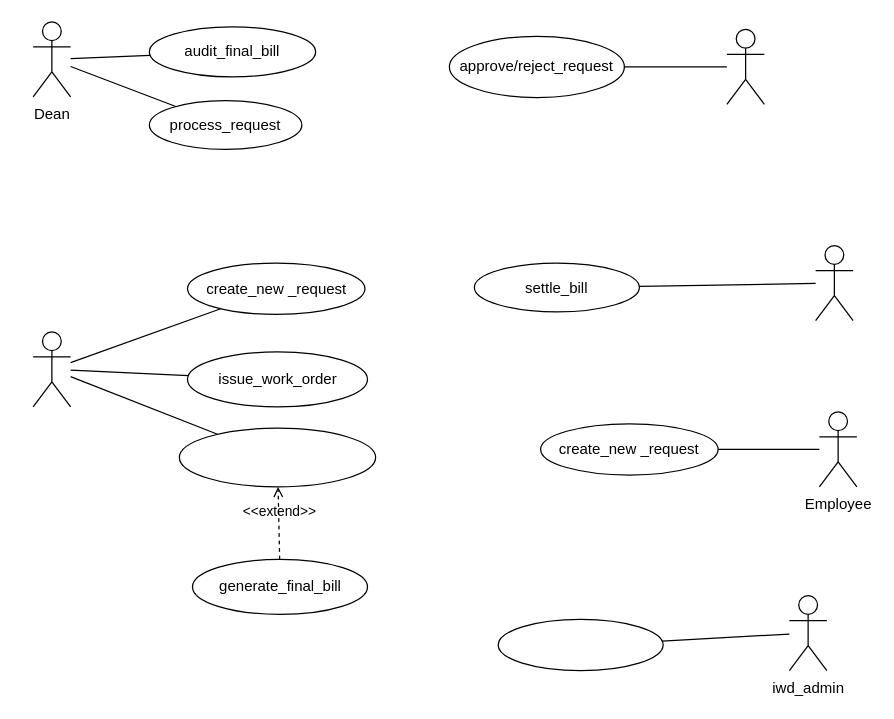
This 894x719 diagram has some shape labels left out. Here are the shapes that lost their labels. From the top down, the box of each, then its label:
(726, 28, 764, 104): Director
(814, 244, 853, 321): acct_admin
(32, 331, 71, 407): Engineer
(178, 427, 376, 487): process_bill
(497, 618, 663, 671): manage_inventory
